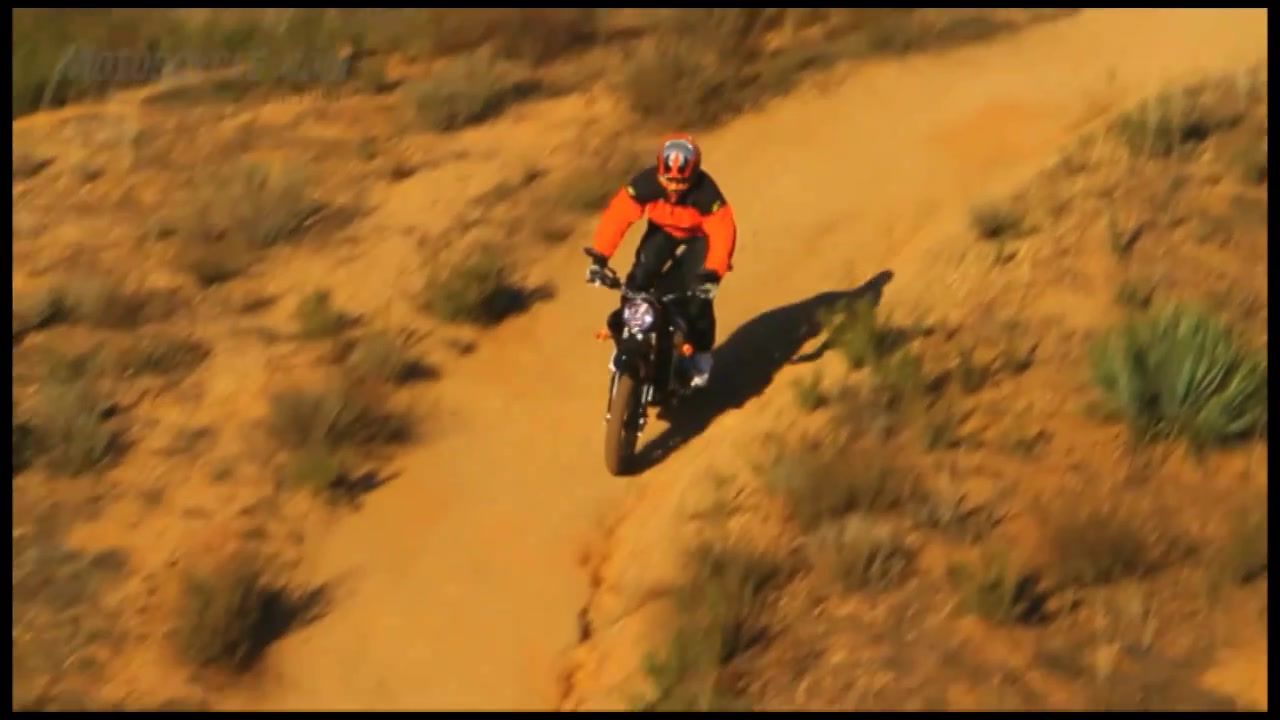motorbike: (577, 240, 722, 481)
